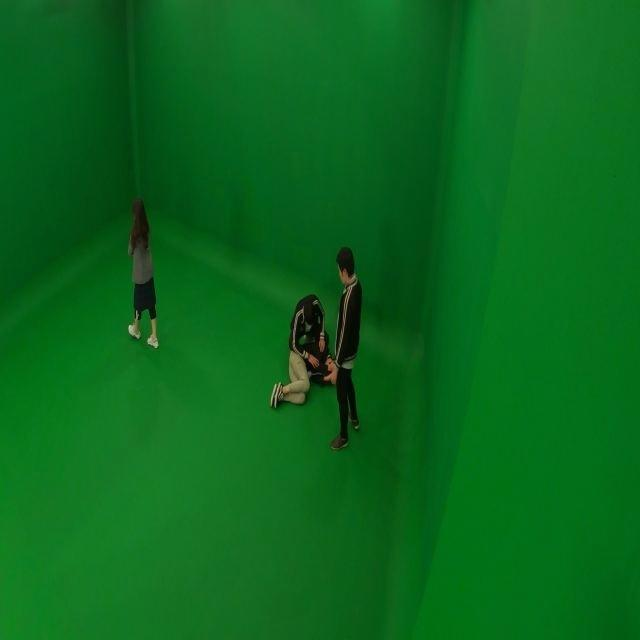fight: (270, 242, 364, 450)
non-fight: (126, 203, 162, 347)
